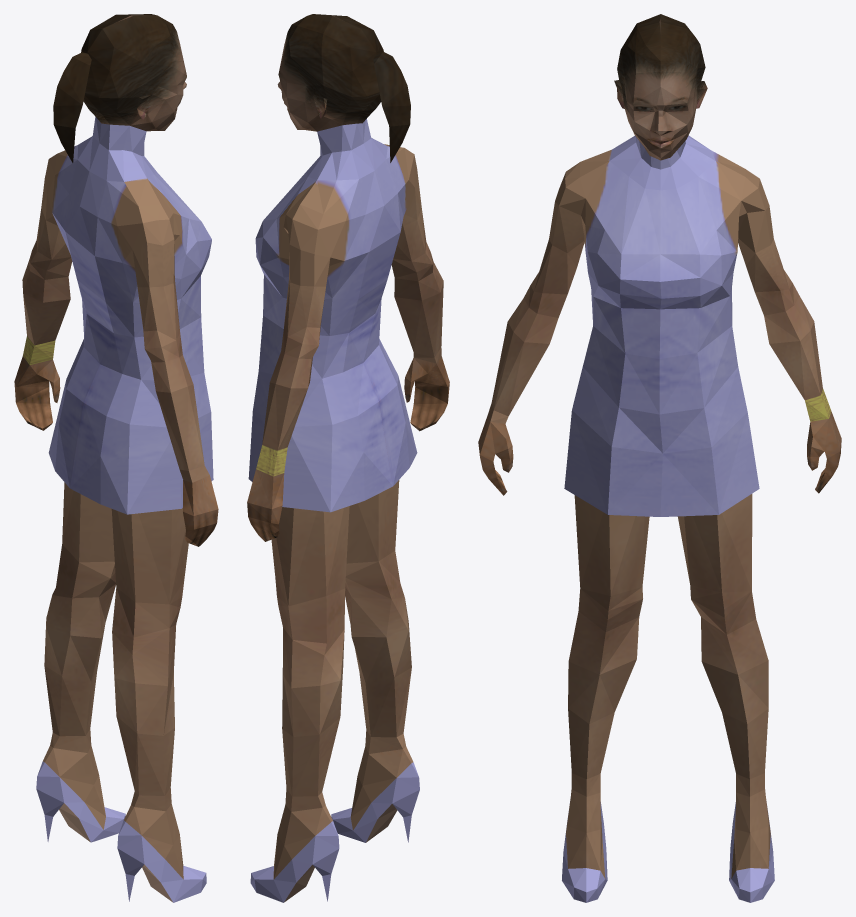
File: swfyri.obj
3 views of the same model, side by side, from view 1: azimuth 30°, elevation 25°; view 2: azimuth 150°, elevation 25°; view 3: azimuth 270°, elevation 25° (orthographic). The views are drawn at different scales.
Visible parts, largest first — view 1: _Pelvis; view 2: _Pelvis; view 3: _Pelvis.
Boxes of the visible parts, x1,y1,x2,y2 form: _Pelvis: (14, 14, 218, 902); _Pelvis: (247, 14, 449, 902); _Pelvis: (478, 14, 841, 902).
Size of the model in its own units: 0.316 by 1.8 by 0.6856.
1 material, 1 textured.
